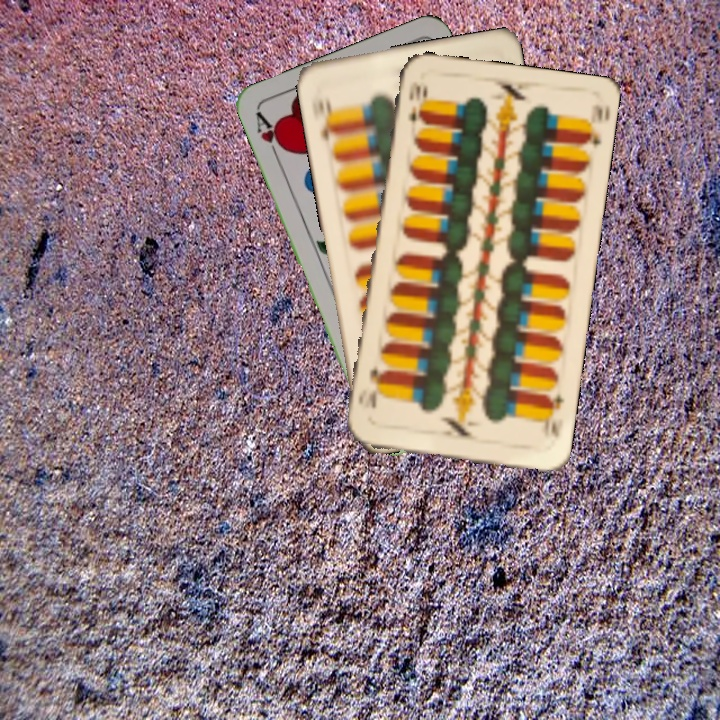E10: (543, 389, 567, 441), (317, 95, 340, 143), (404, 78, 424, 125)
HA: (251, 108, 289, 164)
